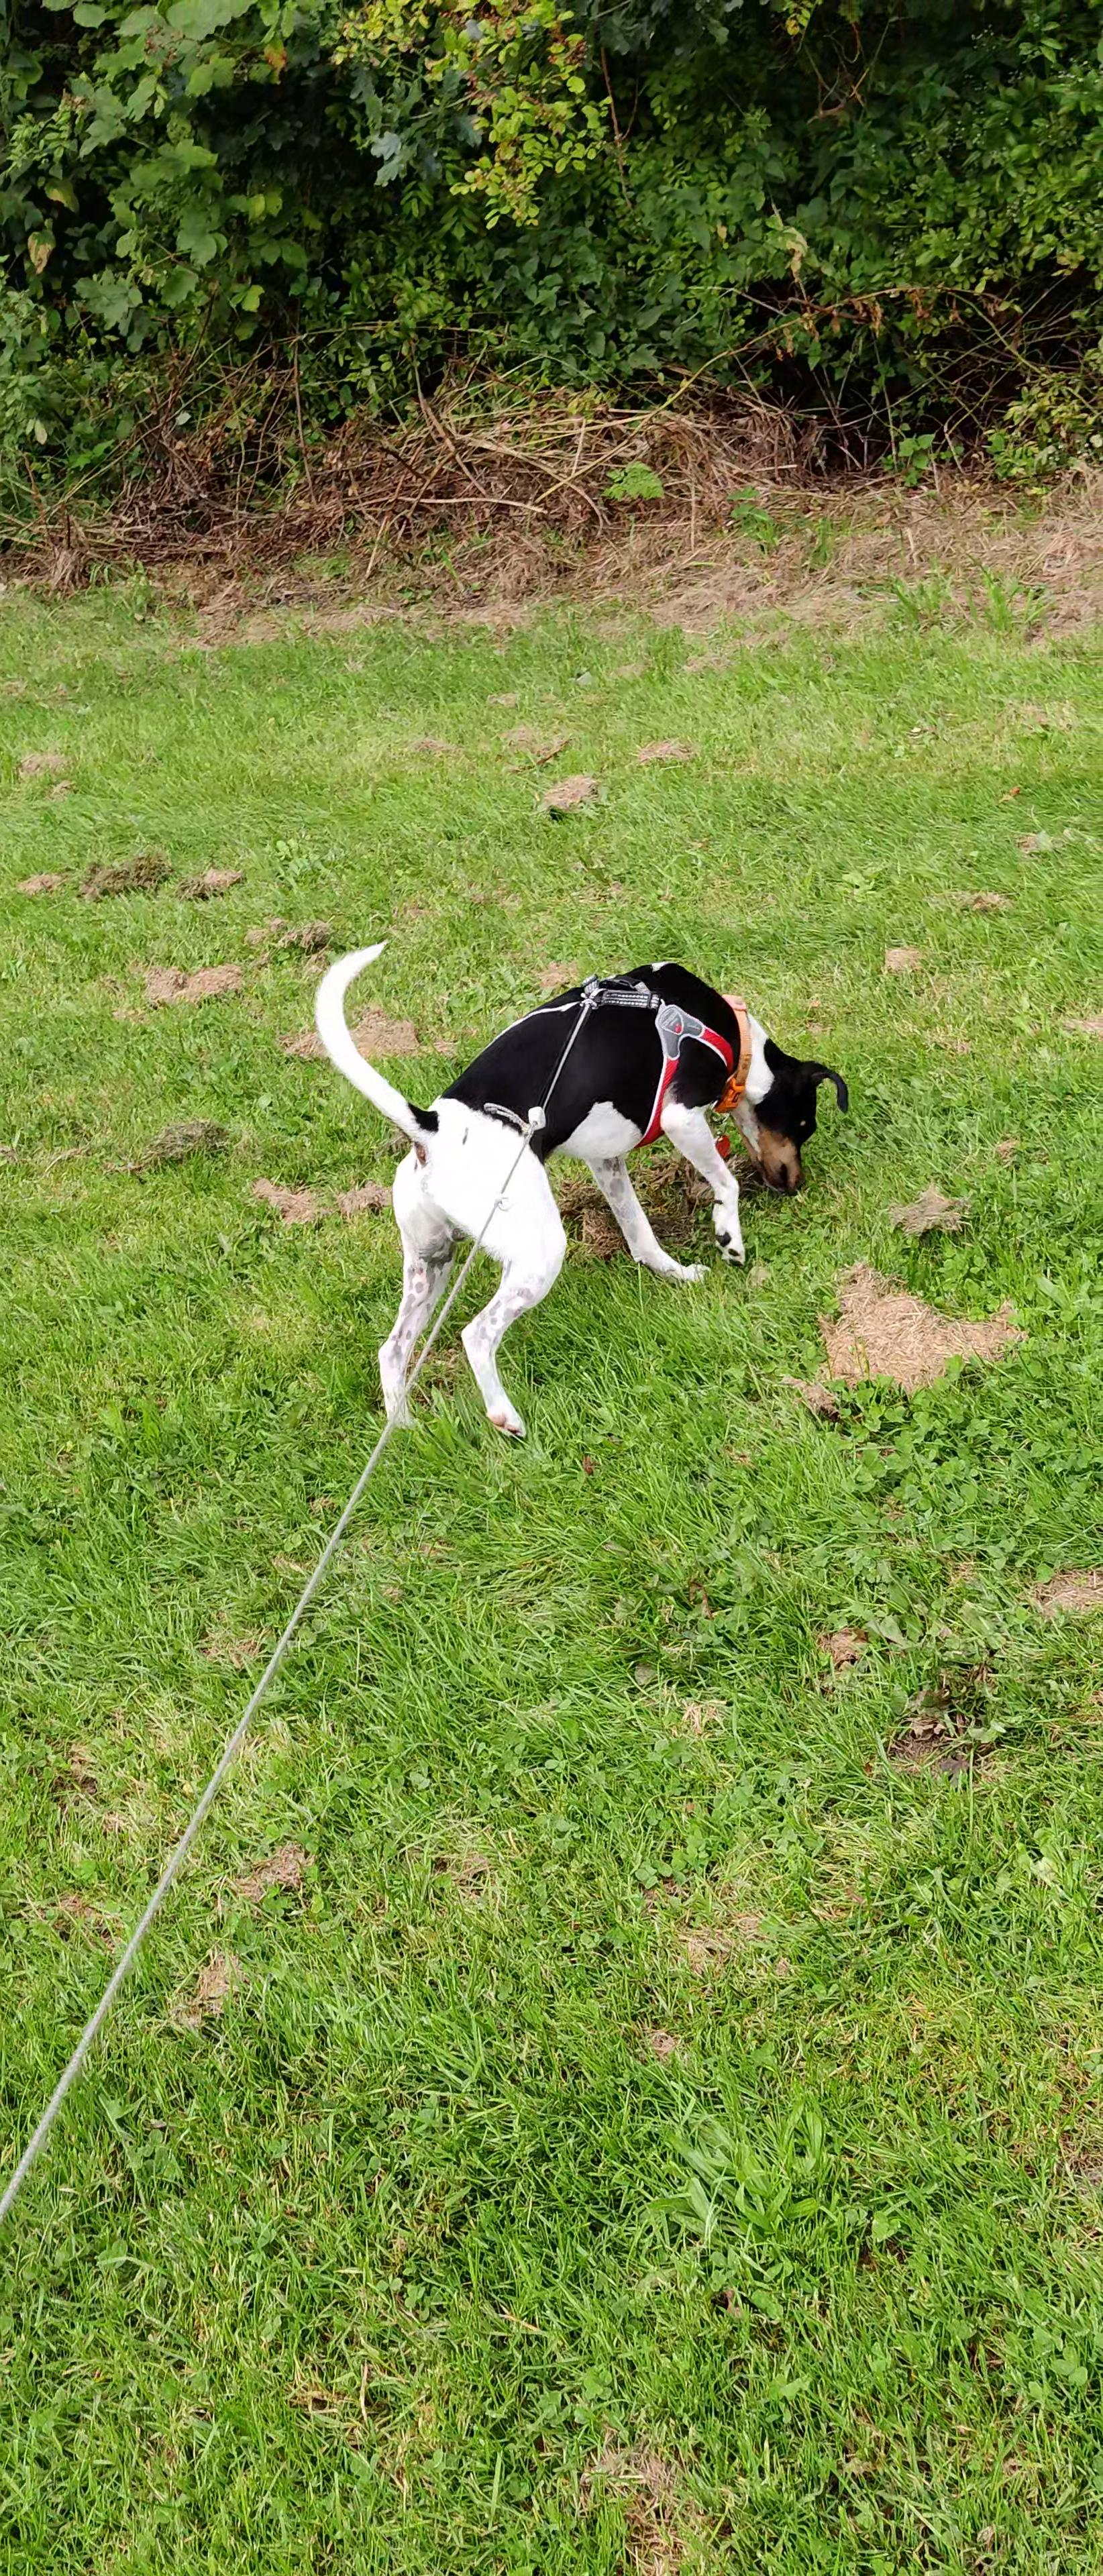Dog: (299, 922, 868, 1454)
